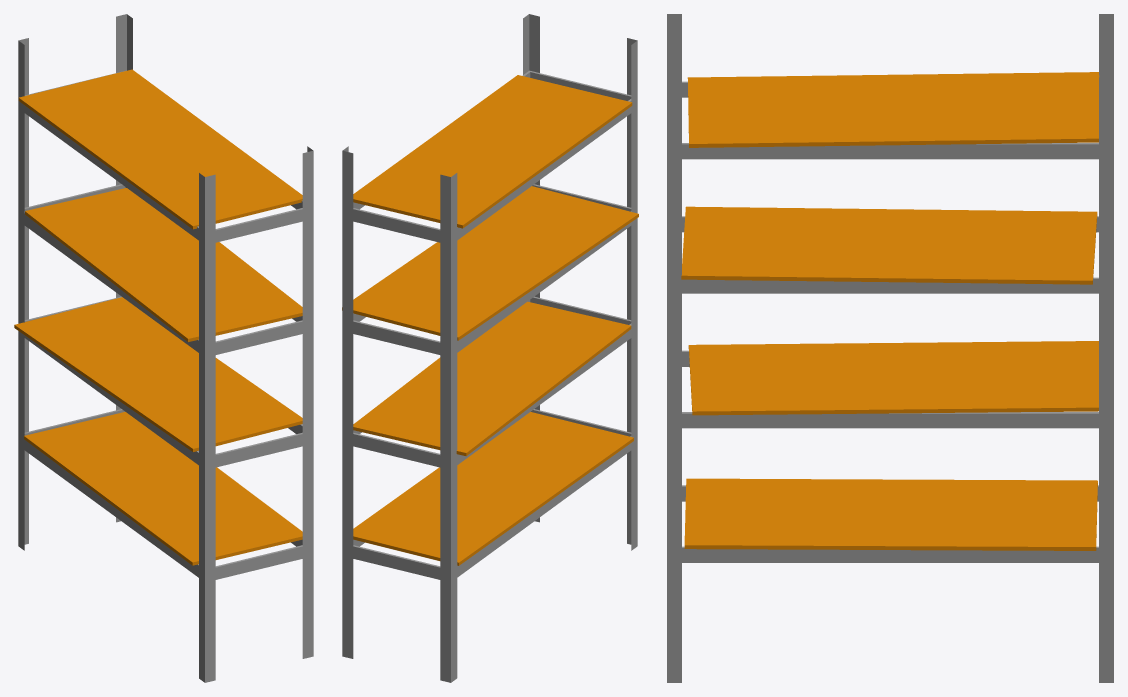
Rendered from pulka.fbx.
The picture shows the model from 3 angles, left to right: view 1: azimuth 30°, elevation 25°; view 2: azimuth 150°, elevation 25°; view 3: azimuth 270°, elevation 25°; orthographic projection. The views are drawn at different scales.
Parts seen in each view (by area): view 1: Shelf; view 2: Shelf; view 3: Shelf.
Part boxes in pixels (bbox=[...]): Shelf: bbox=[14, 14, 313, 682]; Shelf: bbox=[342, 14, 638, 682]; Shelf: bbox=[667, 14, 1113, 682].
Size of the model in its own units: 237 by 900 by 602.
